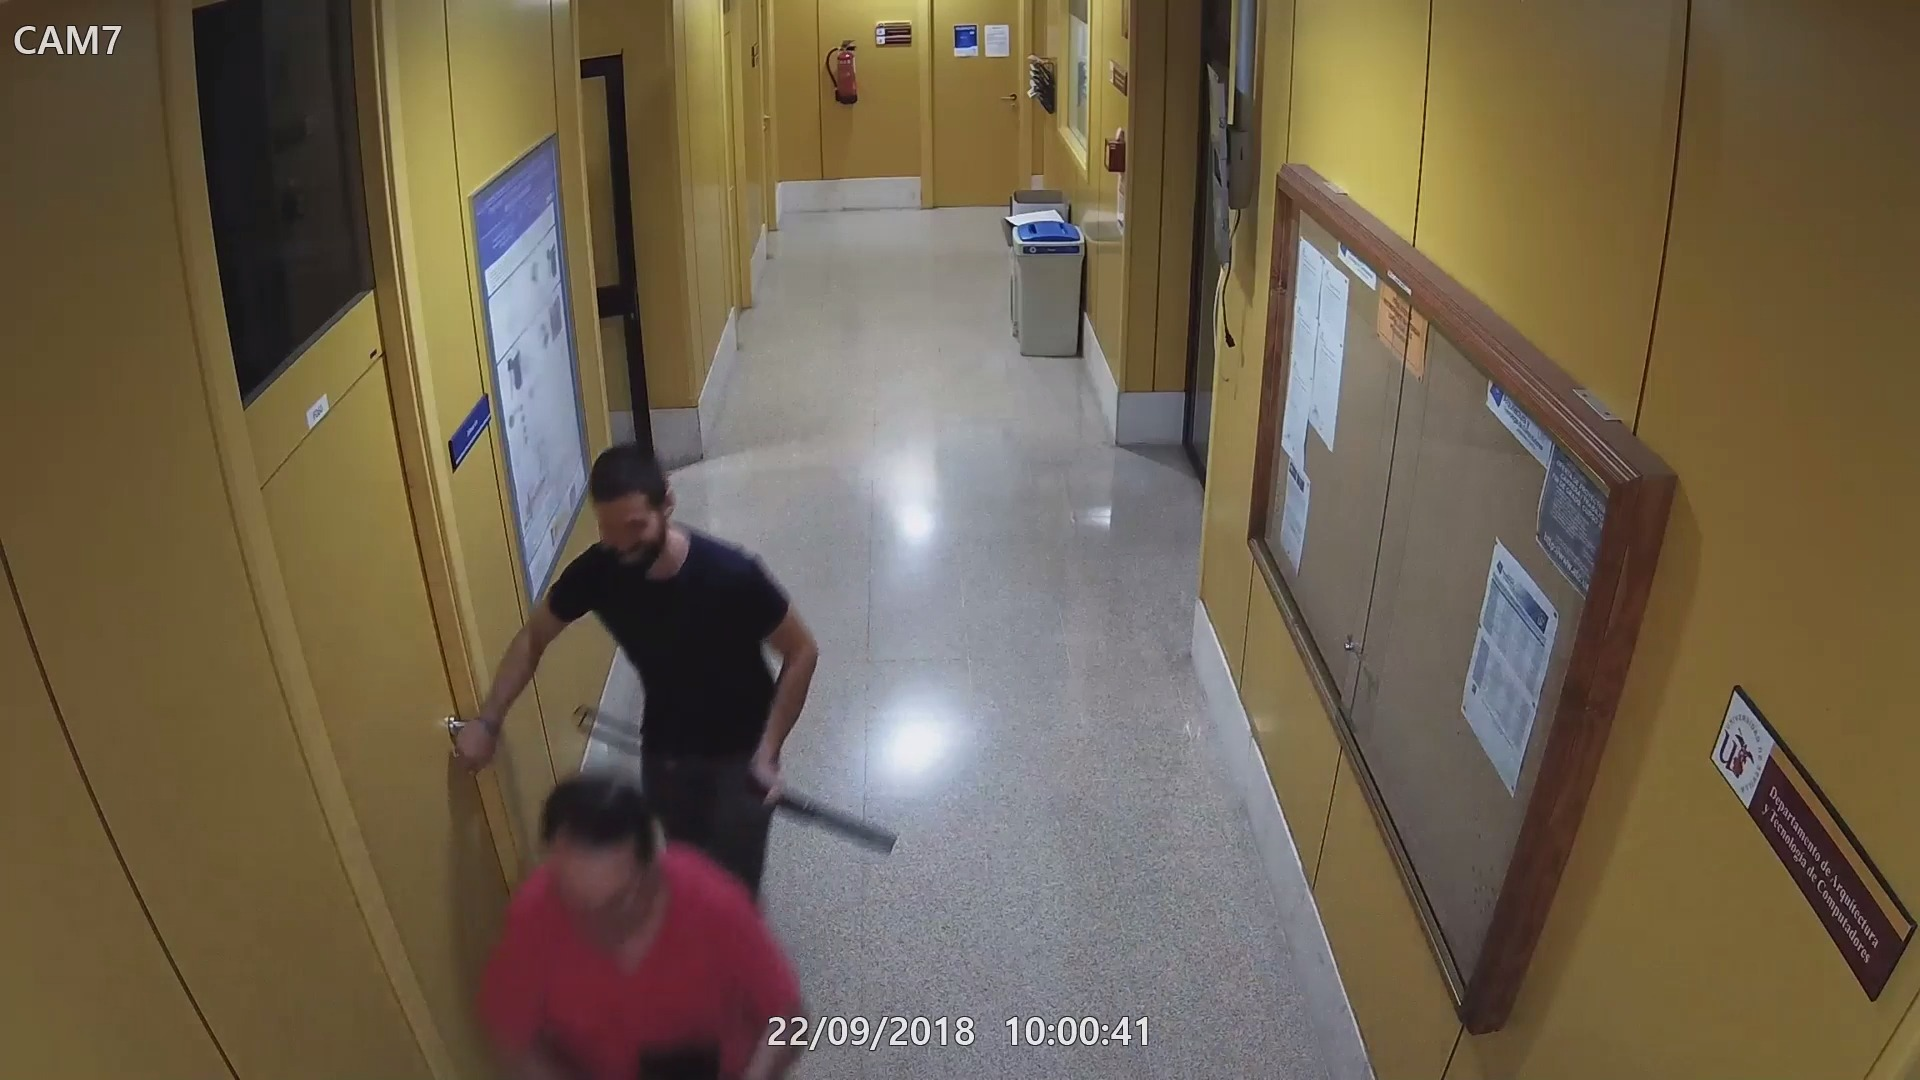Short_rifle: (575, 708, 898, 860)
